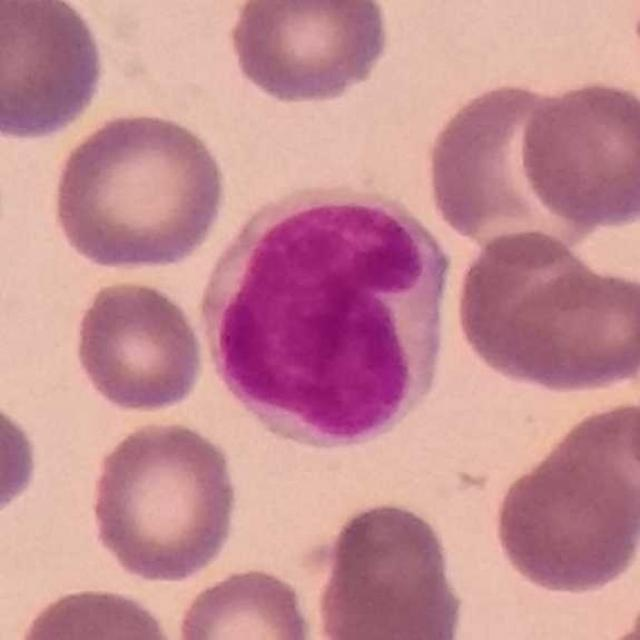mono: (194, 177, 460, 461)
